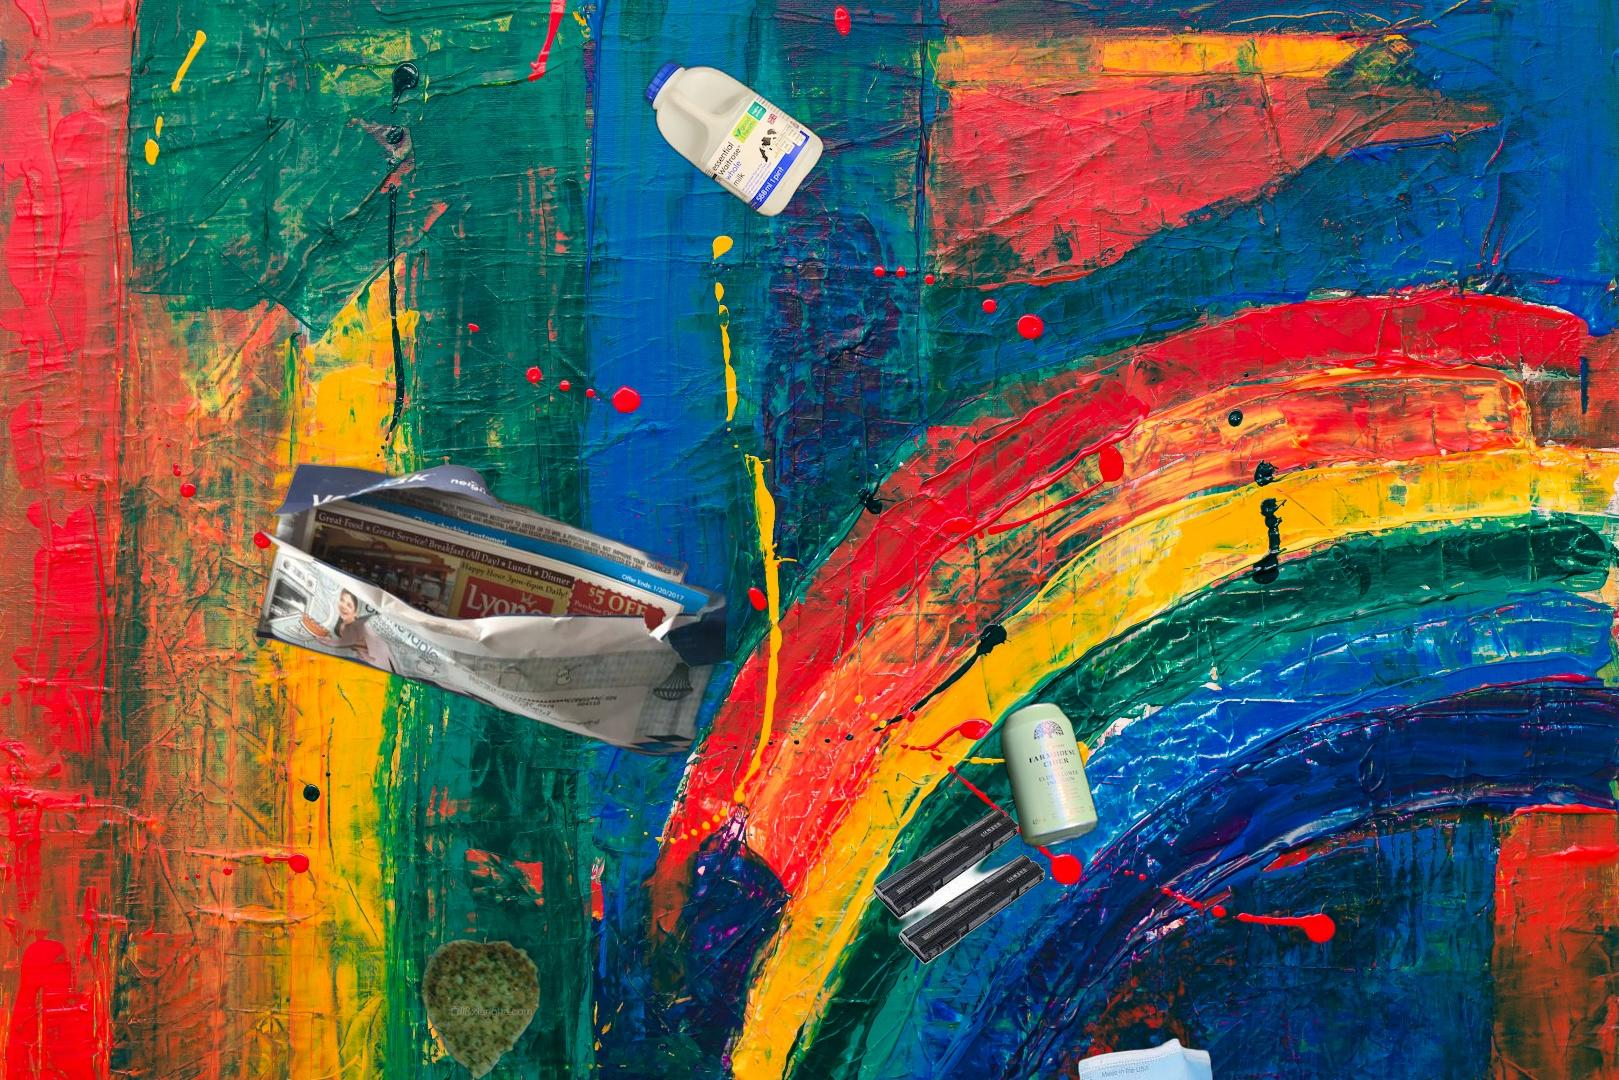battery: (870, 798, 1048, 968)
biological: (420, 937, 542, 1080)
metal-cans: (996, 697, 1103, 855)
paper: (251, 460, 726, 757)
plastic-bottles: (640, 54, 829, 223)
trash: (1073, 1035, 1219, 1080)
